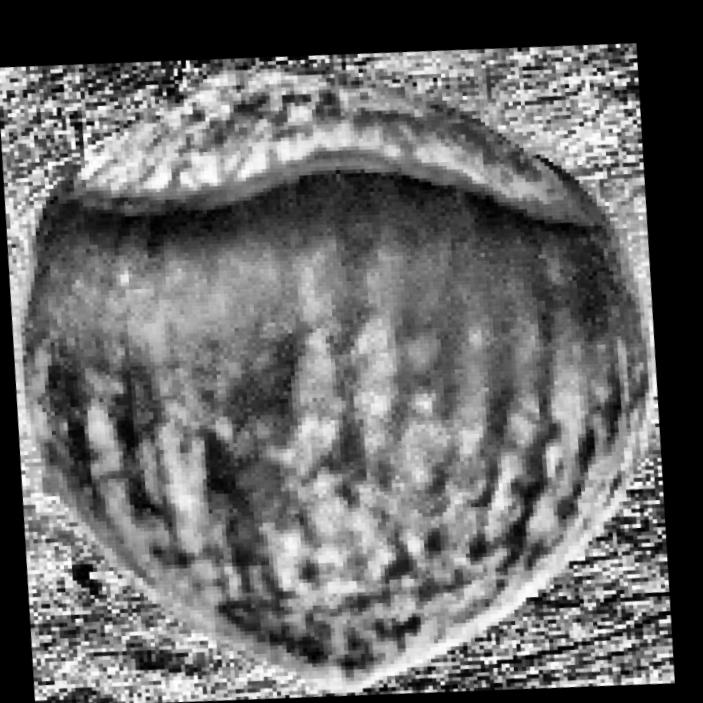qualityHazelnut: (0, 4, 703, 703)
